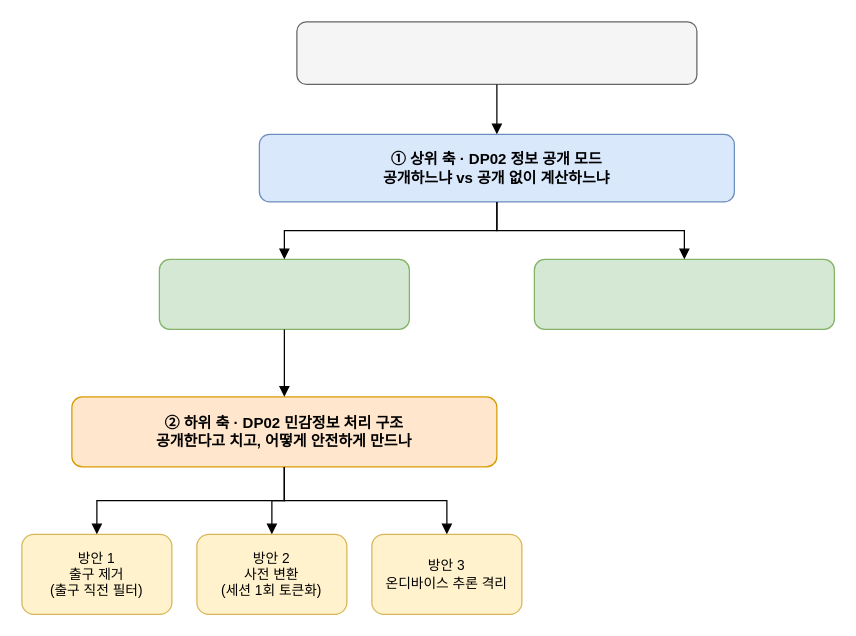
Image size: 856x636. Some labels were removed from this diagram. Each missing label, with the centre of its shape:
"대안 1 · 제한 공개형 (상대에게 공개함)" belongs at point 283,293.
"대안 2 · 비노출 협력 계산 (PSI) (공개하지 않음)" belongs at point 683,293.
"협상 시 개인정보 보호 문제 (상대에게 정보를 전달해야 하지만 그게 곧 사생활)" belongs at point 496,52.
